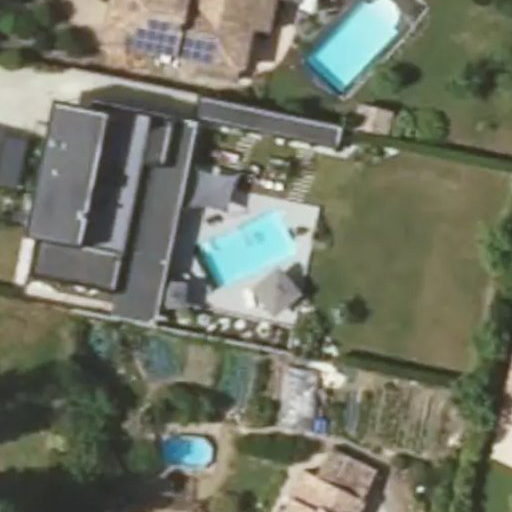pool: (203, 233, 313, 253)
